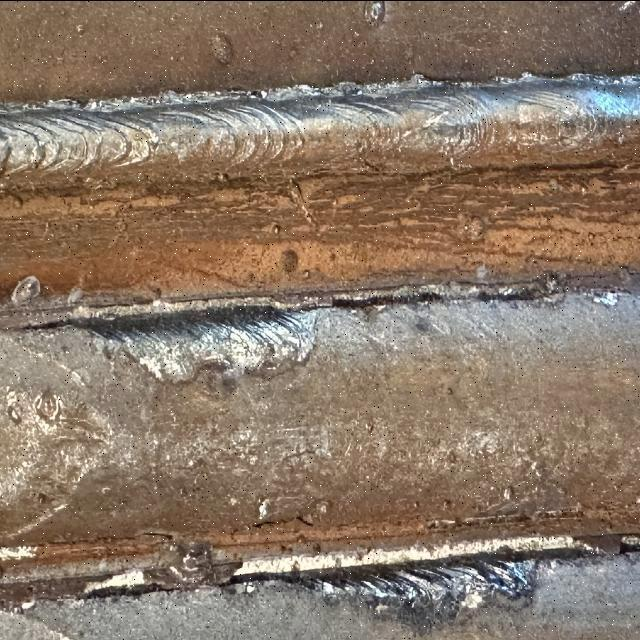Excess Reinforcement: (1, 88, 256, 113), (84, 568, 146, 593), (267, 82, 364, 94), (409, 72, 441, 83), (491, 74, 521, 82), (518, 70, 535, 80), (569, 72, 590, 78)
Spatters: (208, 30, 234, 66), (11, 275, 41, 305), (35, 390, 60, 420), (365, 0, 385, 25), (8, 405, 21, 423), (503, 484, 514, 501), (316, 500, 329, 513), (249, 453, 259, 465), (36, 492, 46, 503), (272, 224, 280, 236), (303, 269, 311, 278), (365, 422, 372, 432), (444, 498, 451, 508), (264, 448, 270, 455), (368, 58, 374, 65), (538, 483, 542, 490)
